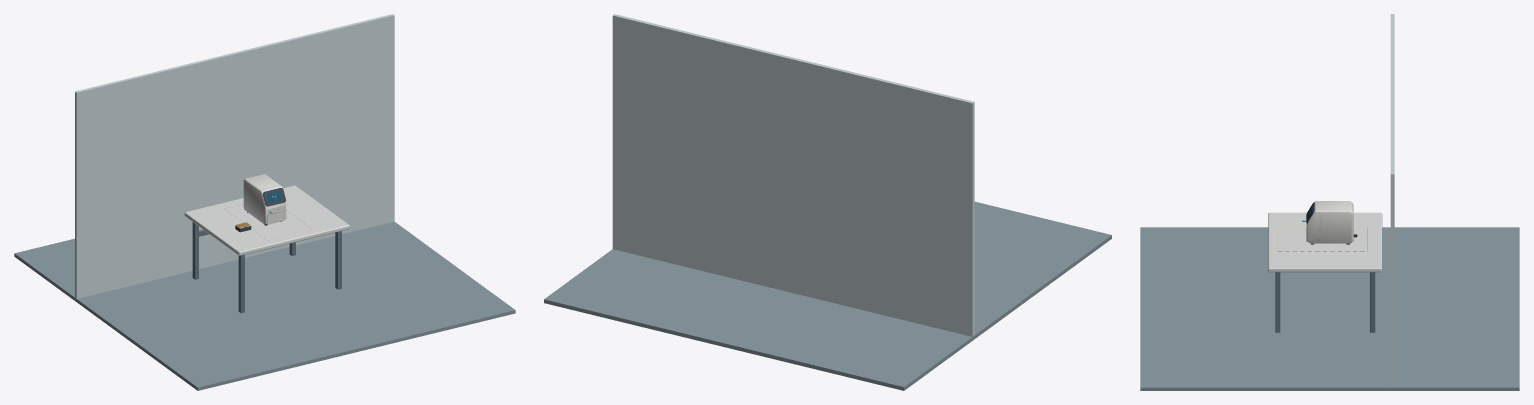
Rendered from qs5-mechanisms.glb.
The picture shows the model from 3 angles, left to right: view 1: azimuth 30°, elevation 25°; view 2: azimuth 150°, elevation 25°; view 3: azimuth 270°, elevation 25°; orthographic projection. The views are drawn at different scales.
Parts seen in each view (by area): view 1: env.wall, env.floor, env.bench.top, qs5.body; view 2: env.wall, env.floor; view 3: env.floor, env.bench.top, qs5.body, env.wall, env.bench.leg-1-0, env.bench.leg-1-1.
Part boxes in pixels (x1=…): env.wall: x1=75, y1=14, x2=394, y2=299; env.floor: x1=14, y1=221, x2=515, y2=390; env.bench.top: x1=184, y1=185, x2=349, y2=255; qs5.body: x1=243, y1=174, x2=286, y2=224; env.wall: x1=612, y1=14, x2=974, y2=336; env.floor: x1=544, y1=201, x2=1111, y2=390; env.floor: x1=1140, y1=227, x2=1519, y2=390; env.bench.top: x1=1268, y1=212, x2=1382, y2=272; qs5.body: x1=1306, y1=201, x2=1353, y2=243; env.wall: x1=1390, y1=14, x2=1394, y2=387; env.bench.leg-1-0: x1=1275, y1=272, x2=1280, y2=332; env.bench.leg-1-1: x1=1370, y1=272, x2=1375, y2=332.
Bounding box in the file's own units: 4 × 2.52 × 4.
